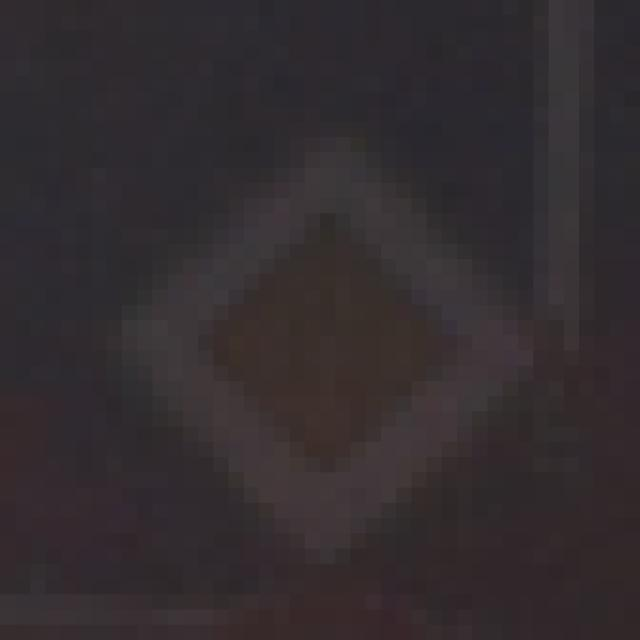Main Road: (92, 93, 565, 550)
